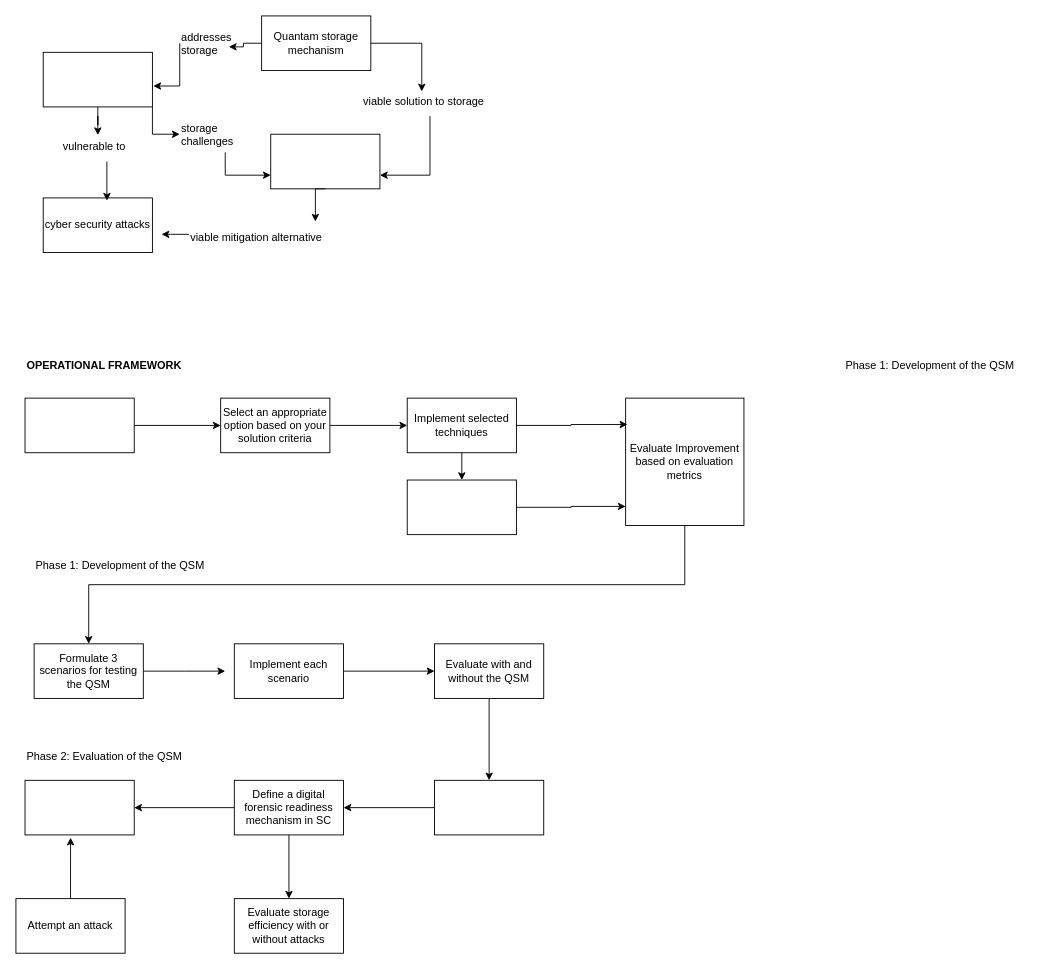
This 1042x969 diagram has some shape labels left out. Each missing label, with the box of its shape:
Digital forensics readiness stations: (270, 133, 380, 189)
Identify all QSM technques: (24, 397, 134, 453)
Improve selected techniques: (406, 479, 516, 535)
Intergarate the developed QSM: (434, 779, 544, 835)
Set up a smart city platform: (24, 779, 134, 835)
smart city security: (42, 51, 152, 107)
